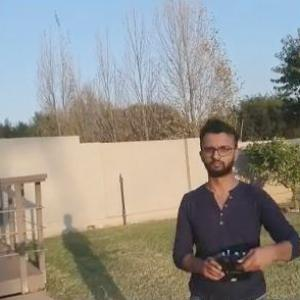follow: (167, 111, 300, 299)
